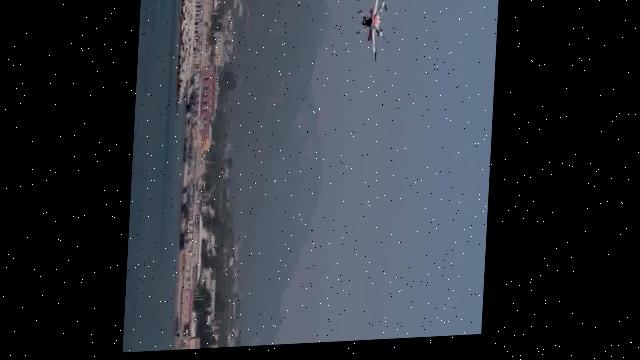drone: (346, 0, 393, 67)
